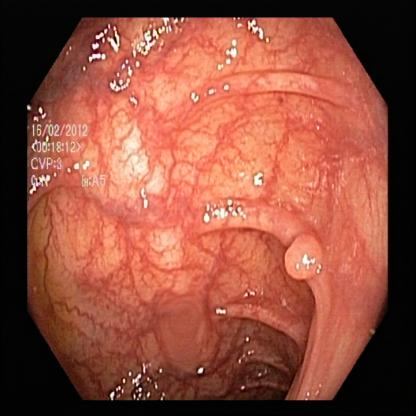Labels: (26, 104, 112, 197)
Polyps: (285, 208, 336, 303)
